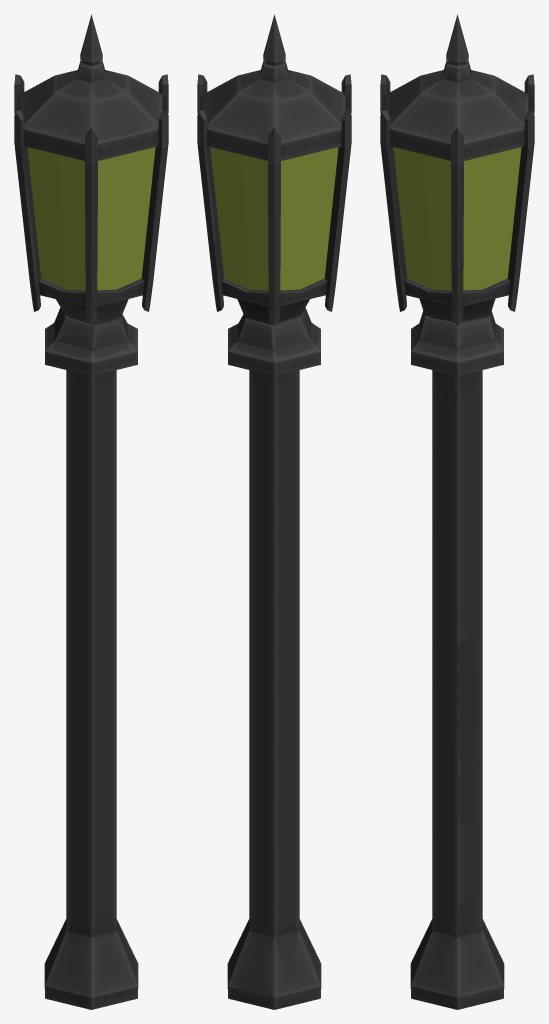
File: Lantern_pole.fbx
The picture shows the model from 3 angles, left to right: view 1: azimuth 30°, elevation 25°; view 2: azimuth 150°, elevation 25°; view 3: azimuth 270°, elevation 25°; orthographic projection.
Parts seen in each view (by area): view 1: lantern_pole; view 2: lantern_pole; view 3: lantern_pole.
Boxes of the visible parts, x1=… form: lantern_pole: x1=14, y1=14, x2=168, y2=1009; lantern_pole: x1=197, y1=14, x2=351, y2=1009; lantern_pole: x1=380, y1=14, x2=534, y2=1009.
Size of the model in its own units: 1.41 by 8.61 by 1.24.
